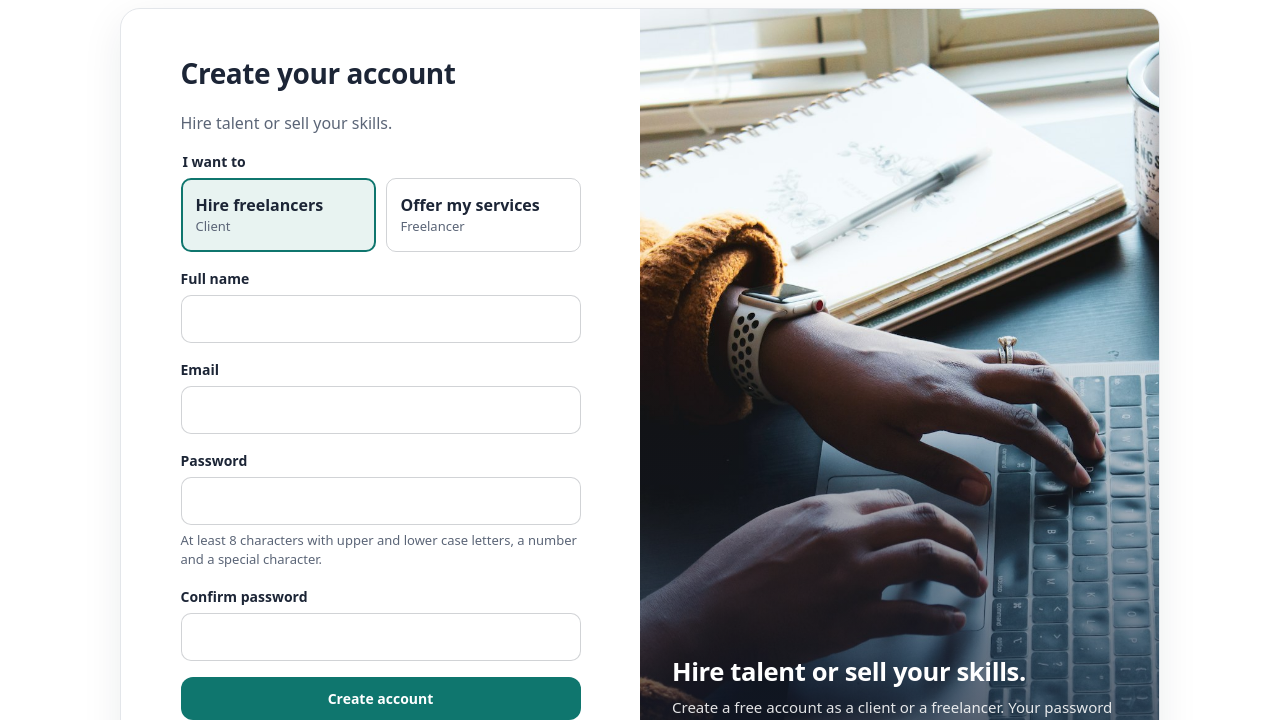
it: RegisterPage › rejects a weak password before contacting the server
Step 1. Type "Bob Freelancer" into the field labelled "Full name" → x=380, y=319, box [180,295,580,343]
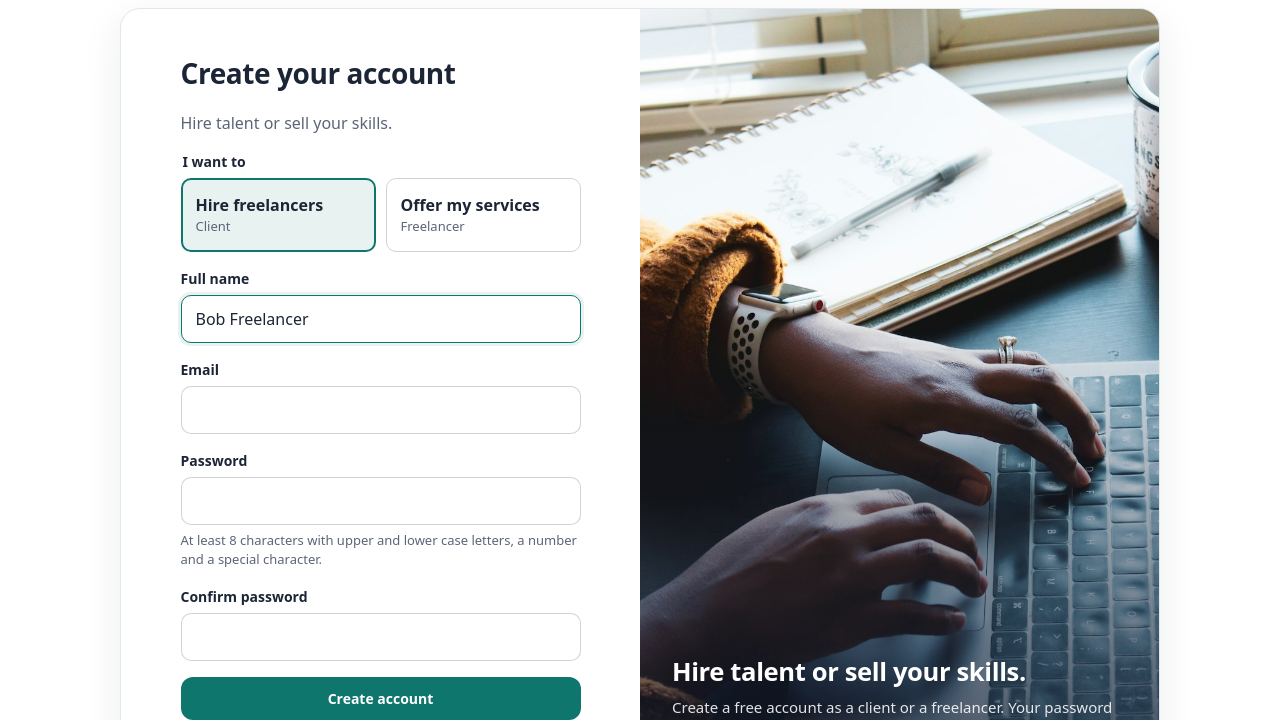
Step 2. Type "bob@test.dev" into the field labelled "Email" → x=380, y=410, box [180,386,580,434]
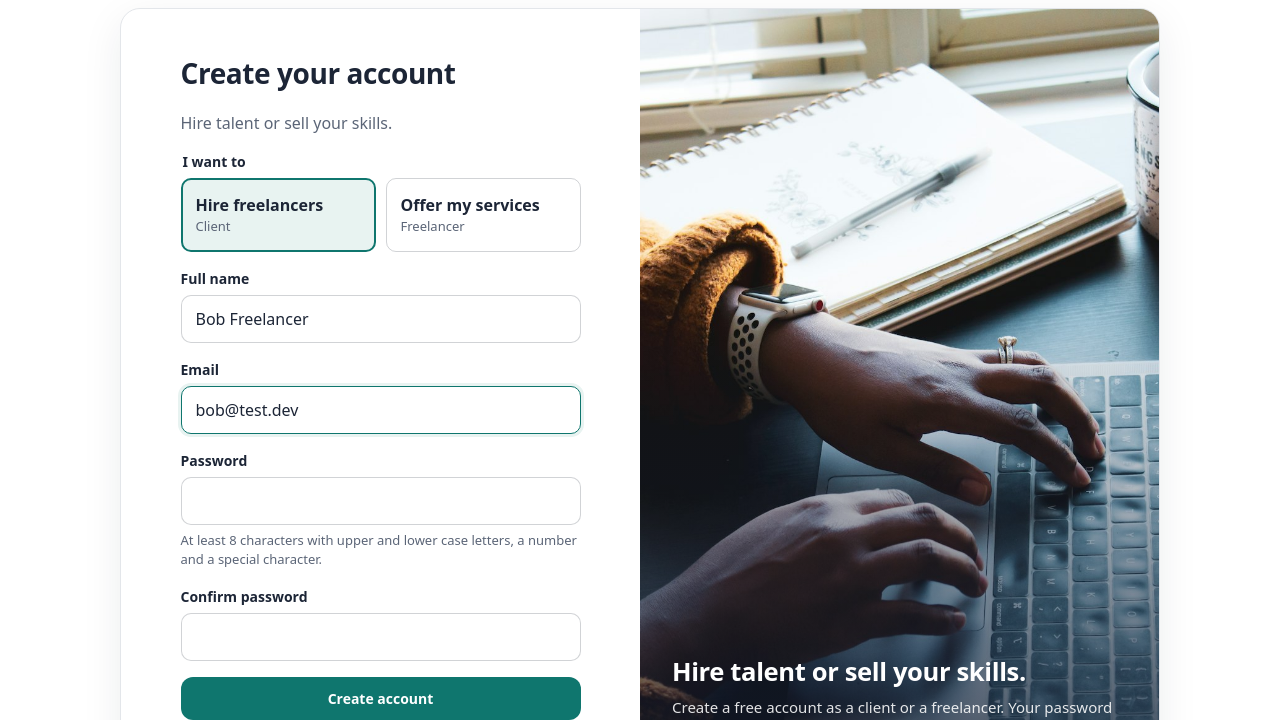
Step 3. Type "weakpass" into the password field labelled "Password" → x=380, y=501, box [180,477,580,525]
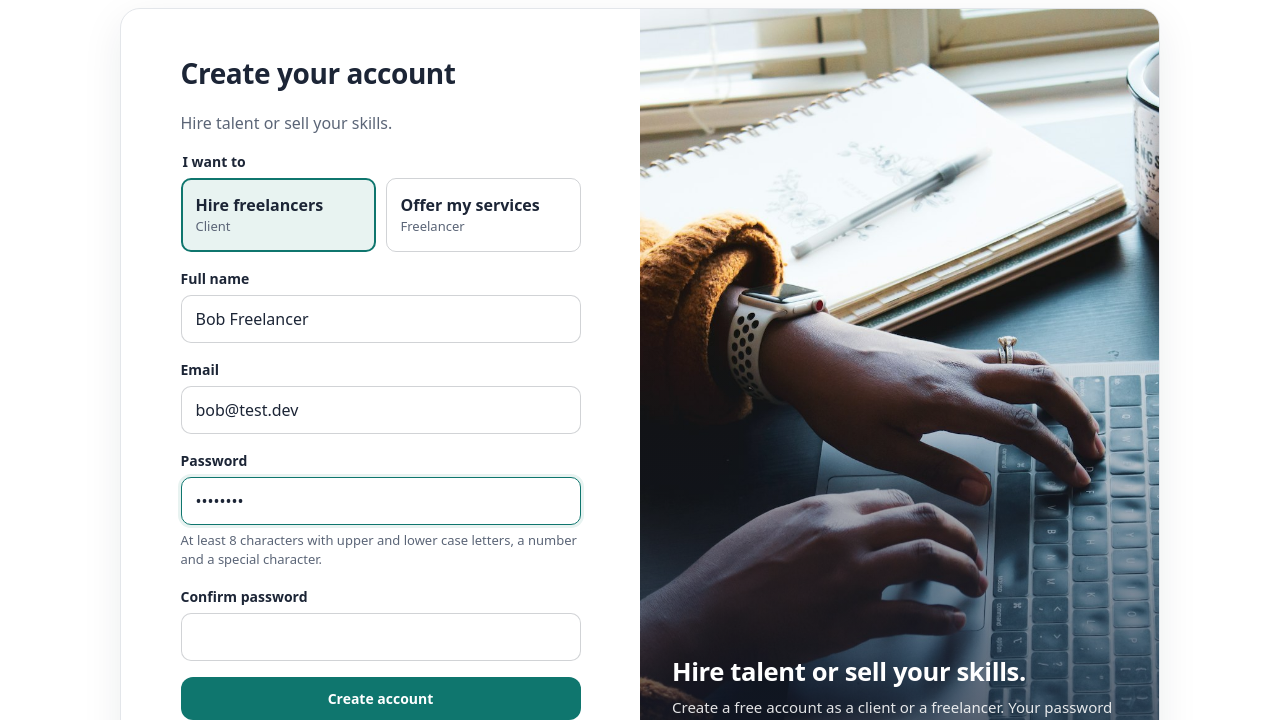
Step 4. Type "weakpass" into the password field labelled "Confirm password" → x=380, y=637, box [180,613,580,661]
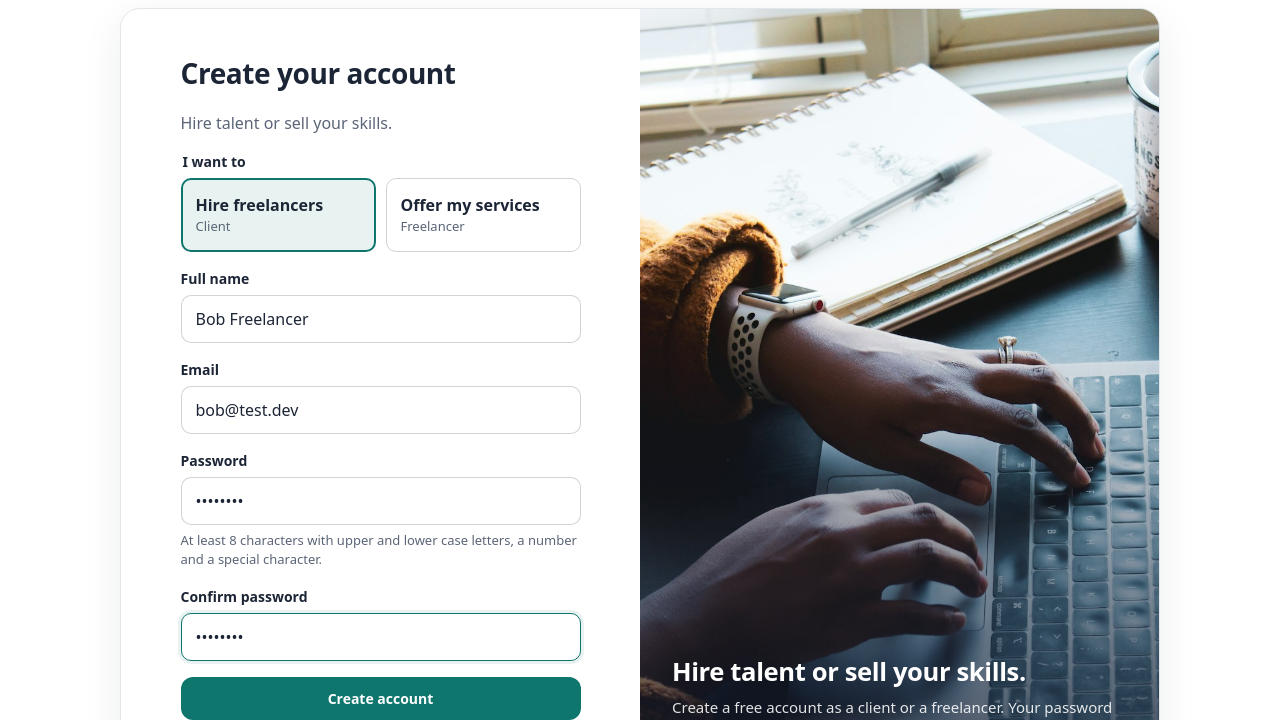
Step 5. Click the button "Create account" → x=380, y=698, box [180,677,580,719]
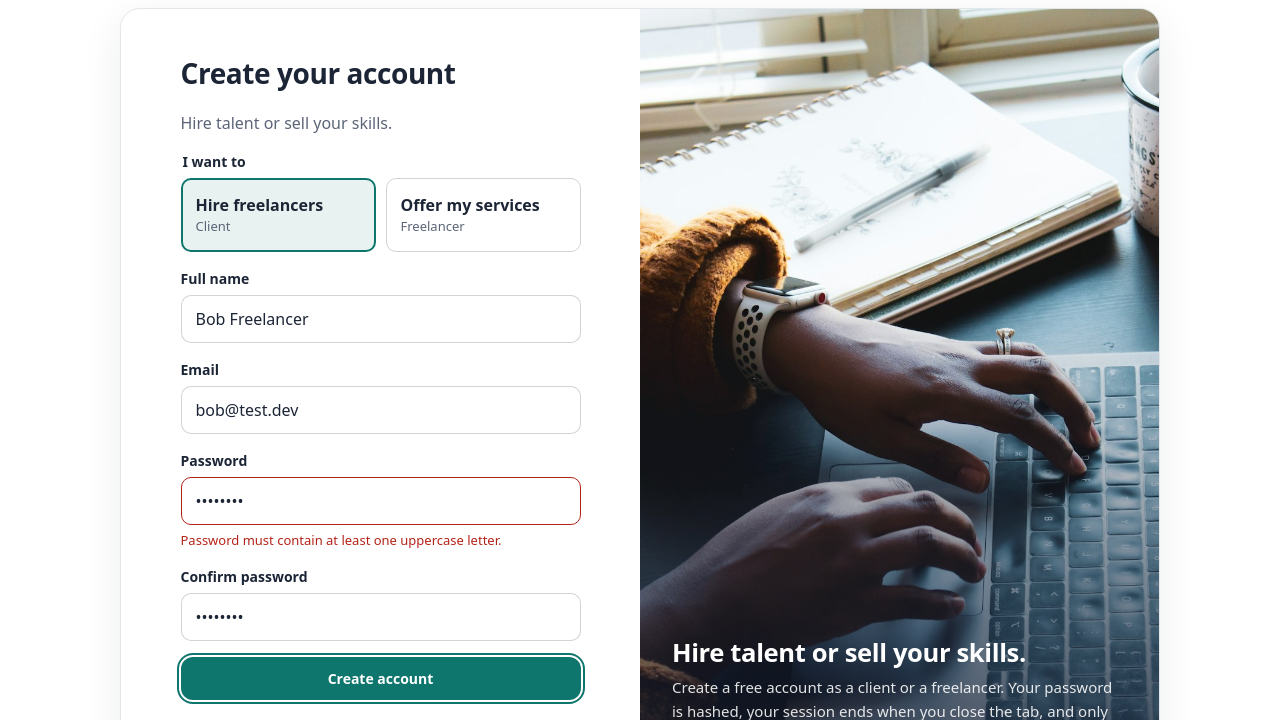
Check: the text "Password must contain at least one uppercase letter." is shown, box [180,531,501,549]
